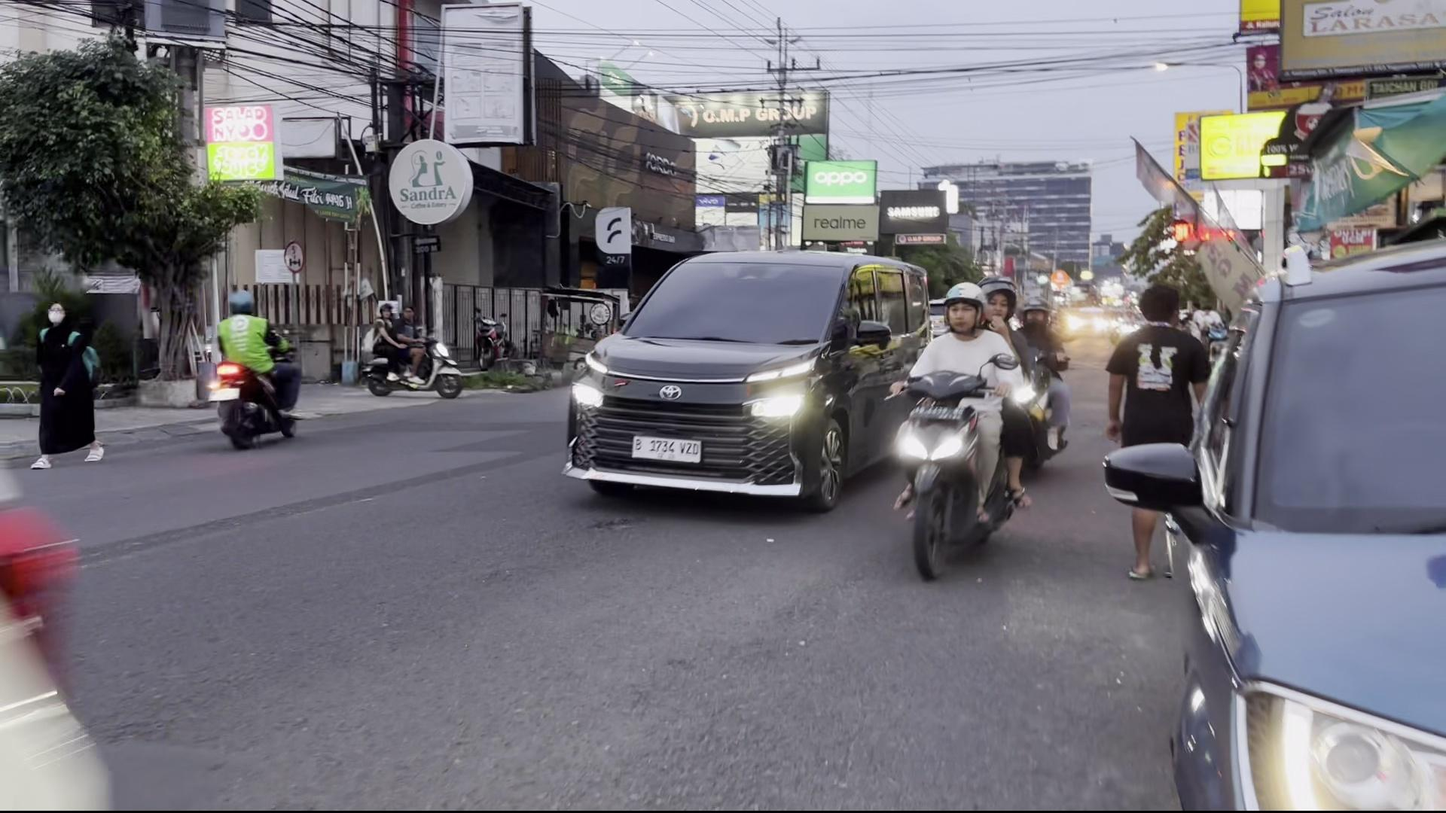helm: (939, 280, 990, 336)
riding: (881, 268, 1039, 593)
